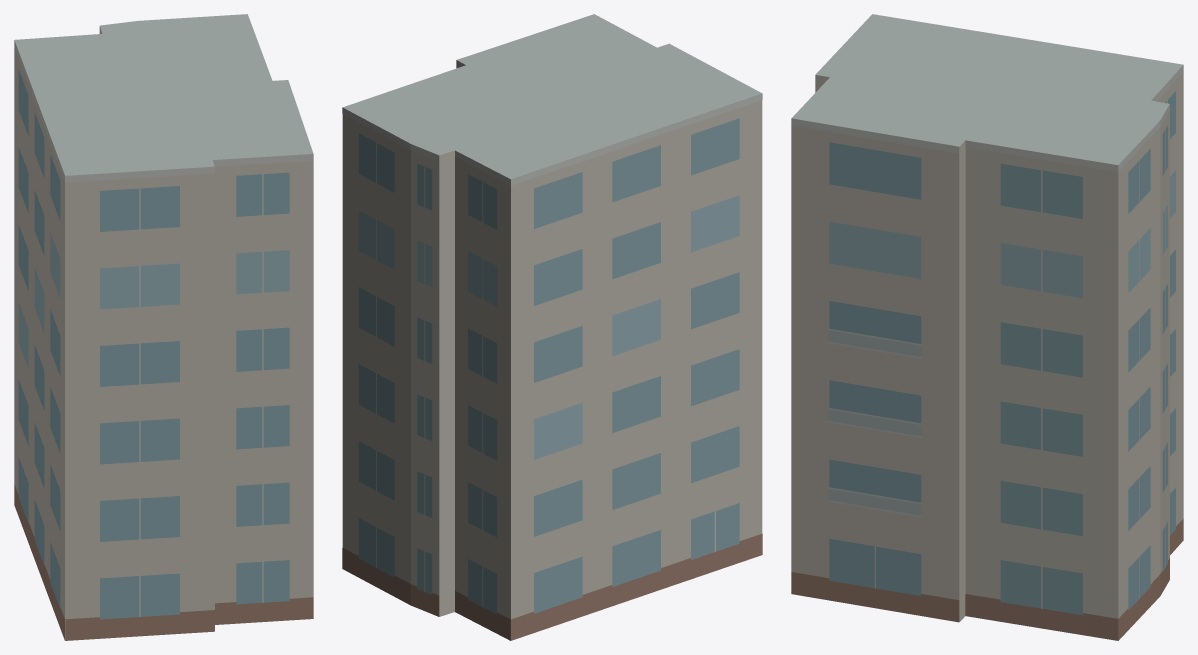
File: survey-upis-32783628.glb
3 views of the same model, side by side, from view 1: azimuth 30°, elevation 25°; view 2: azimuth 150°, elevation 25°; view 3: azimuth 270°, elevation 25° (orthographic). The views are drawn at different scales.
Parts seen in each view (by area): view 1: survey-upis-32783628.tmp; view 2: survey-upis-32783628.tmp; view 3: survey-upis-32783628.tmp.
Boxes of the visible parts, bbox=[...] form: survey-upis-32783628.tmp: bbox=[14, 14, 313, 640]; survey-upis-32783628.tmp: bbox=[342, 14, 762, 640]; survey-upis-32783628.tmp: bbox=[791, 14, 1183, 640].
Bounding box in the file's own units: 11.66 × 17.1 × 12.79.
